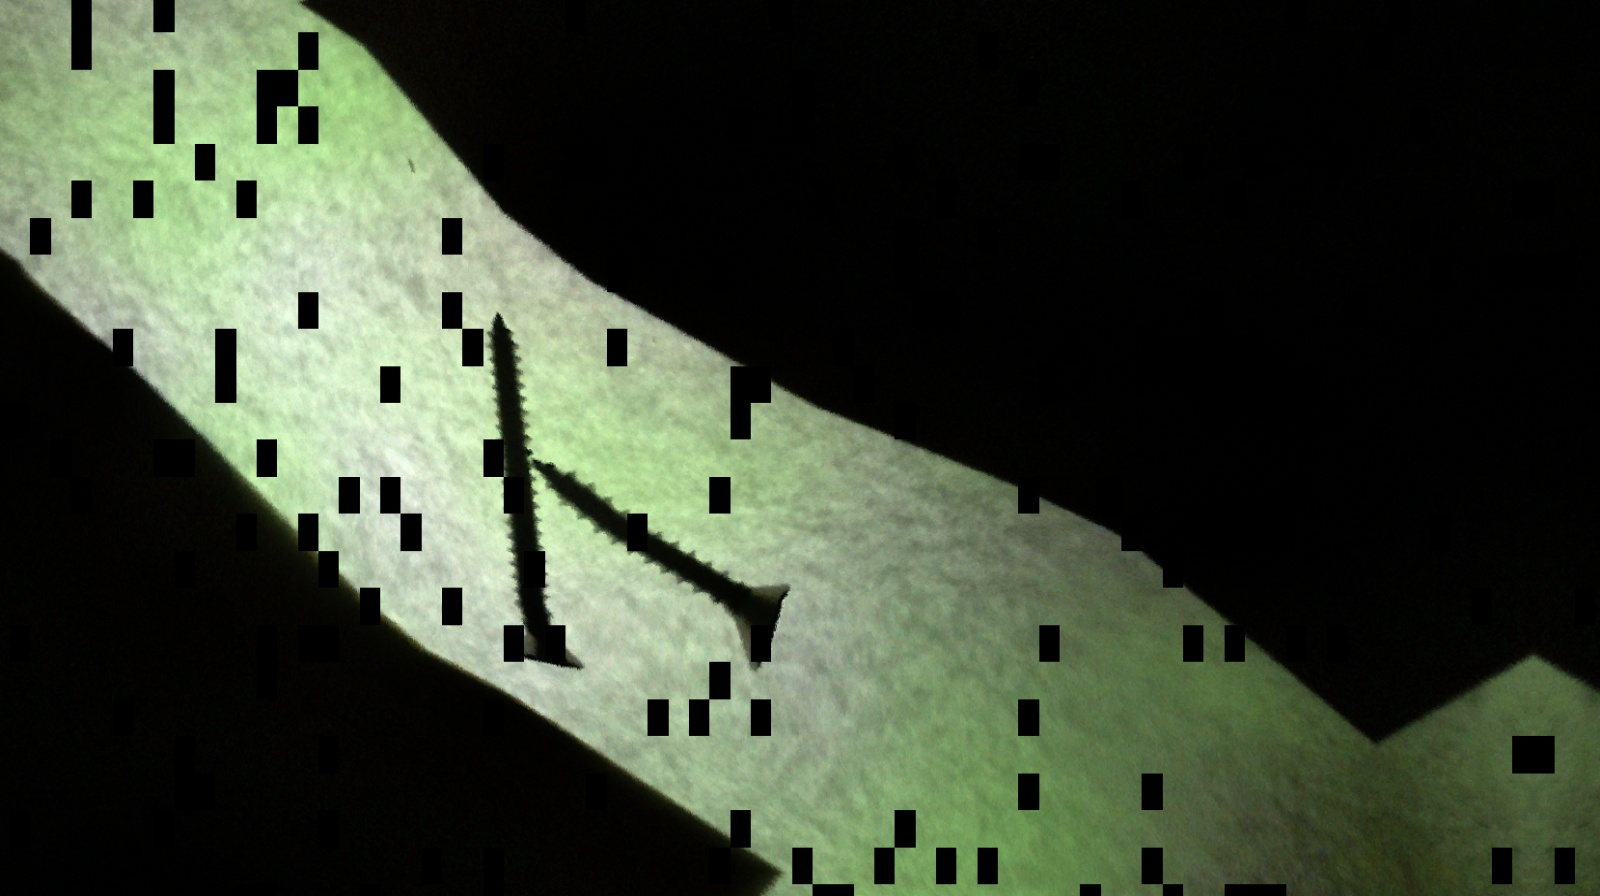S001: (525, 452, 830, 690)
S002: (424, 292, 616, 674)
